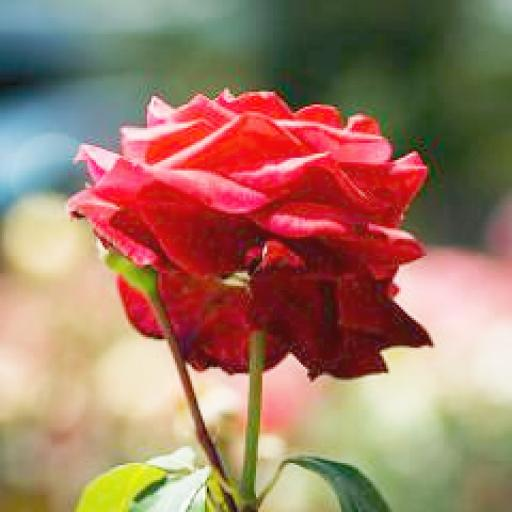rose: (68, 83, 438, 382)
